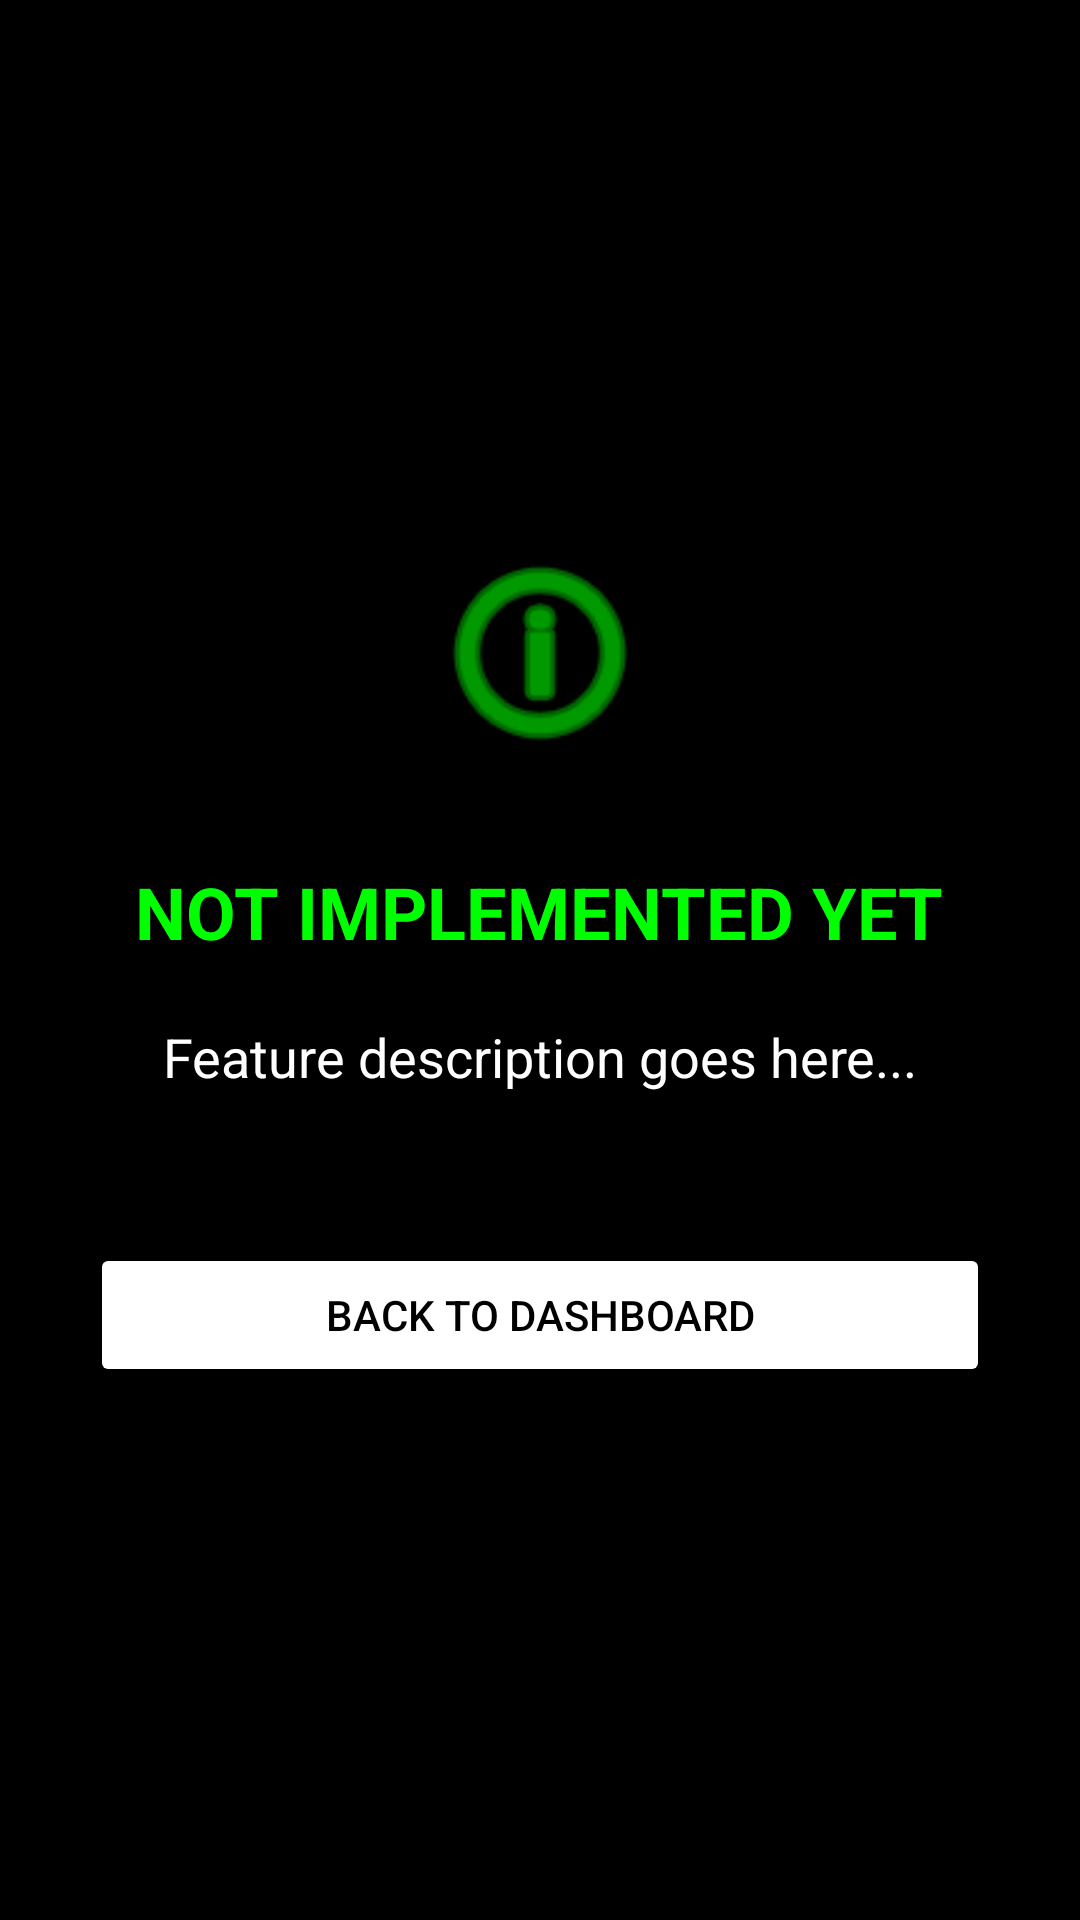

Icon click points for this 1080px×1920px phone screenshot, format point (x, y):
info details: point (540, 653)
